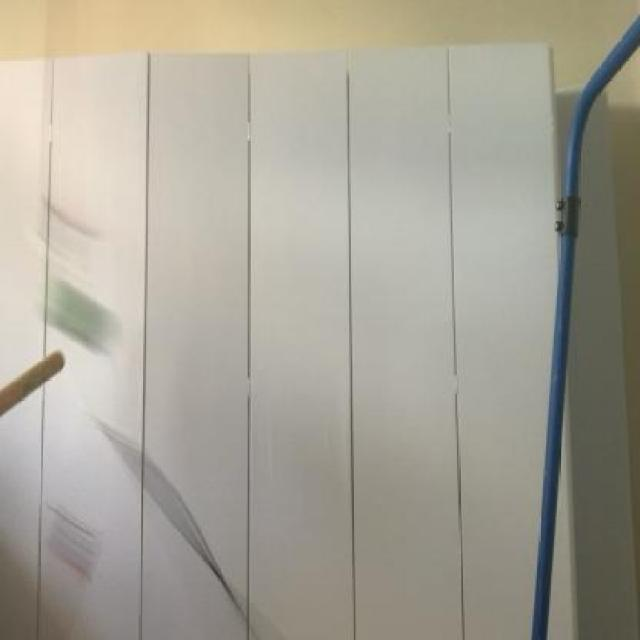baseball: (38, 271, 130, 377)
